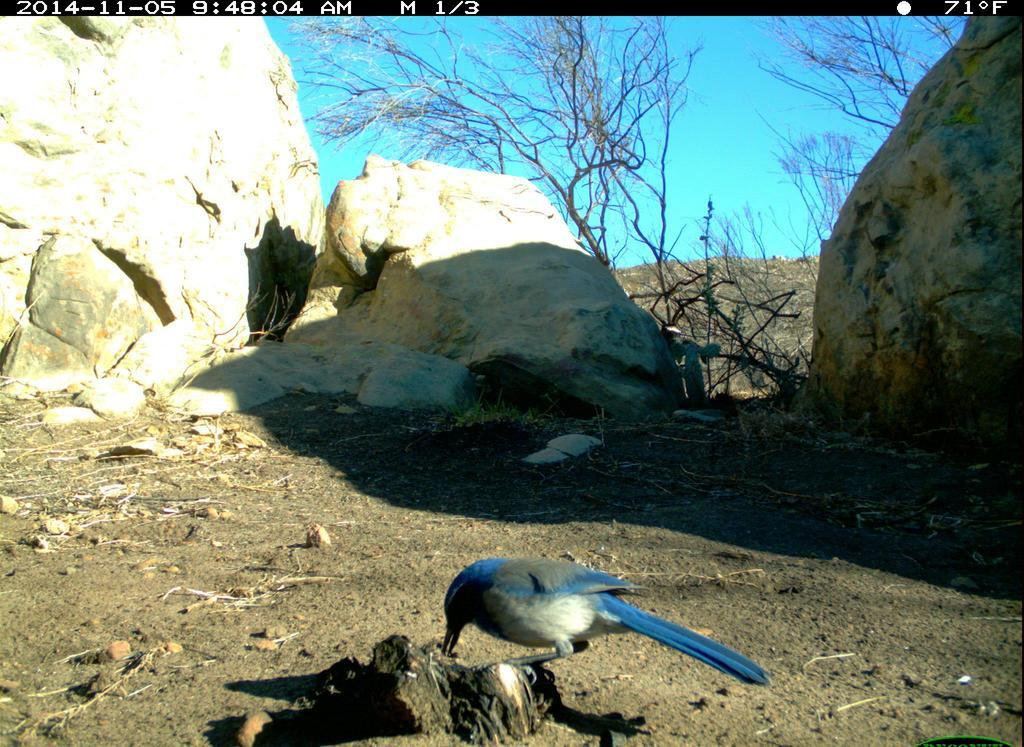bird: (431, 545, 772, 706)
